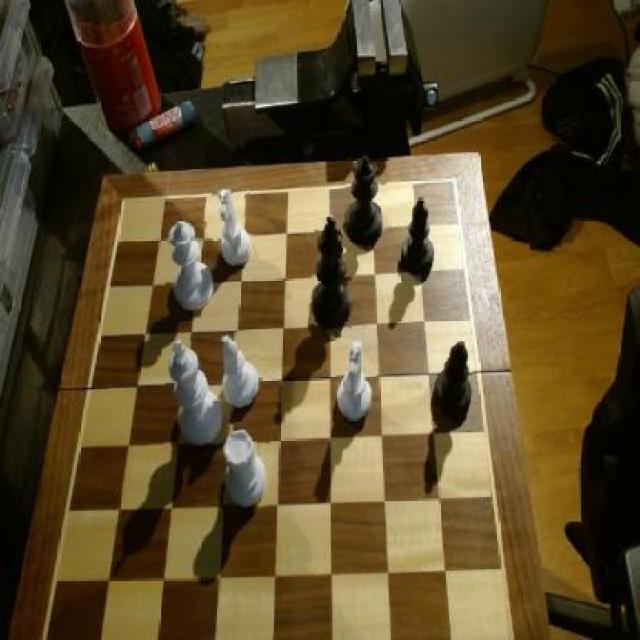bishop: (432, 337, 474, 426), (400, 195, 437, 280)
black-bishop: (311, 213, 358, 334)
black-pawn: (343, 152, 387, 251)
black-rook: (217, 331, 263, 413)
white-bishop: (164, 340, 223, 448)
white-king: (335, 338, 378, 426), (214, 185, 254, 270)
white-pawn: (166, 218, 217, 312)
white-queen: (220, 426, 269, 513)
